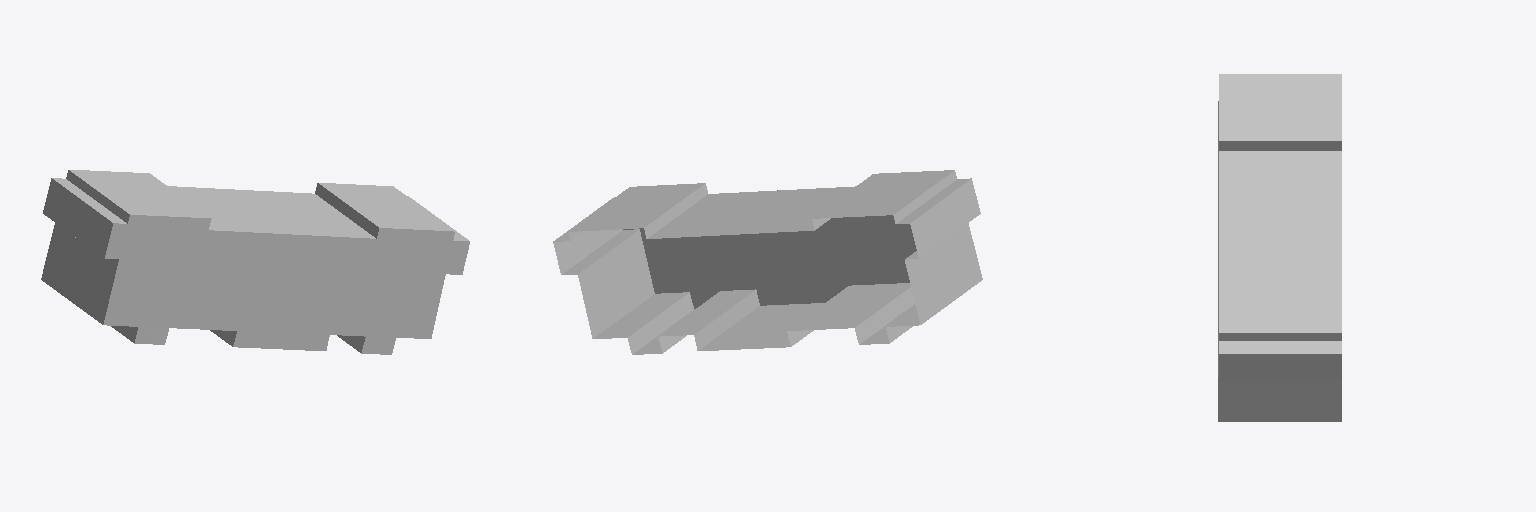
File: talo_Build0000065.obj
3 views of the same model, side by side, from view 1: azimuth 30°, elevation 25°; view 2: azimuth 150°, elevation 25°; view 3: azimuth 270°, elevation 25° (orthographic).
Bounding box in the file's own units: 44.97 × 23.8 × 13.21.